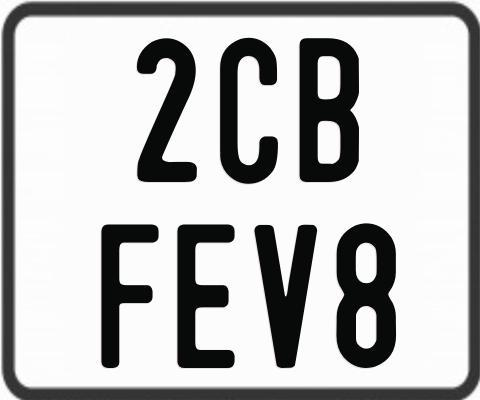2: (137, 35, 201, 185)
8: (336, 222, 398, 372)
B: (299, 35, 364, 182)
C: (218, 37, 276, 187)
E: (176, 224, 239, 368)
F: (98, 221, 157, 369)
V: (252, 225, 319, 368)
